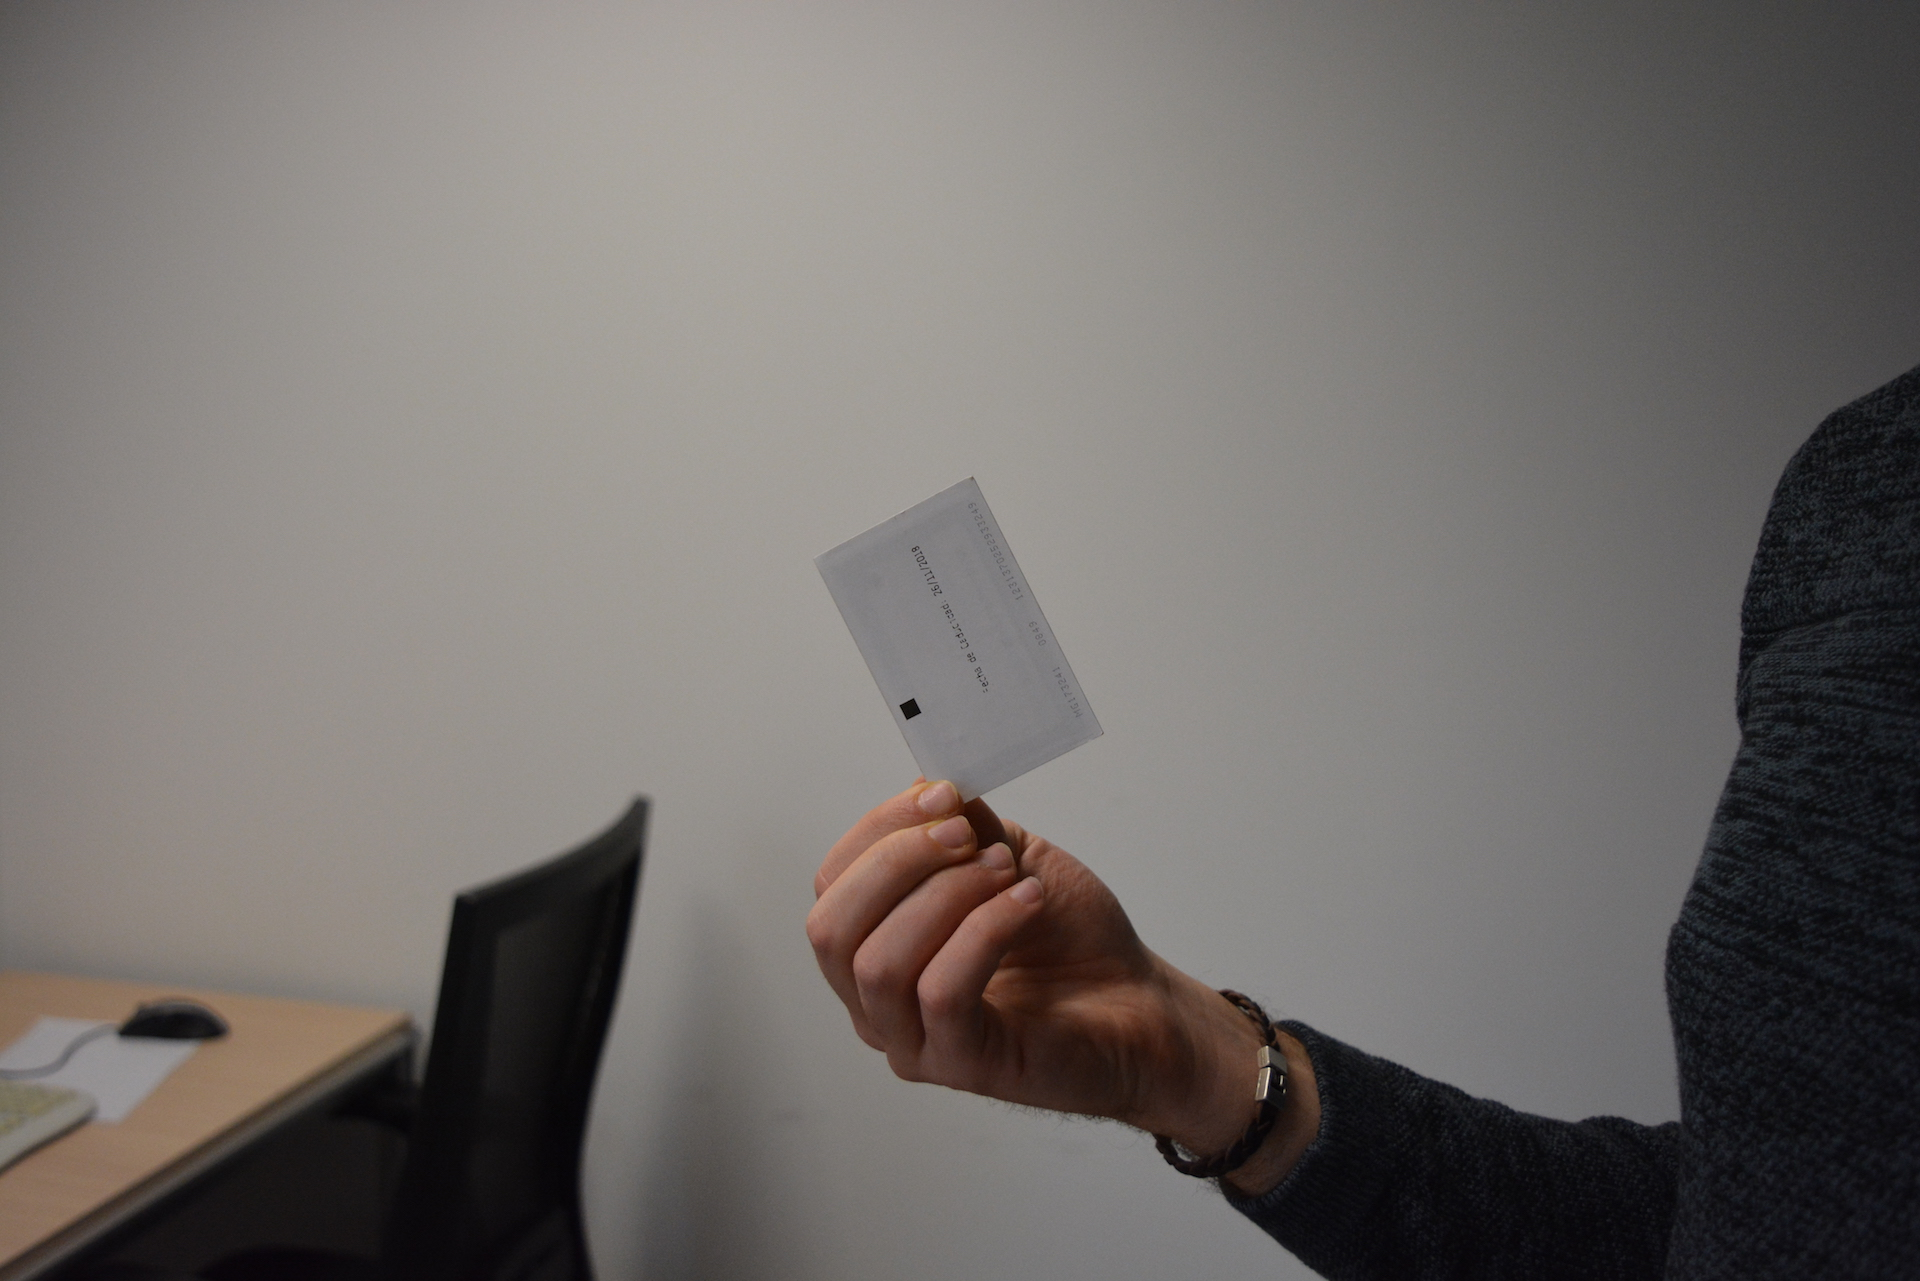tarjeta: (812, 473, 1107, 811)
